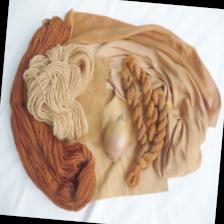onion: (102, 111, 132, 164)
